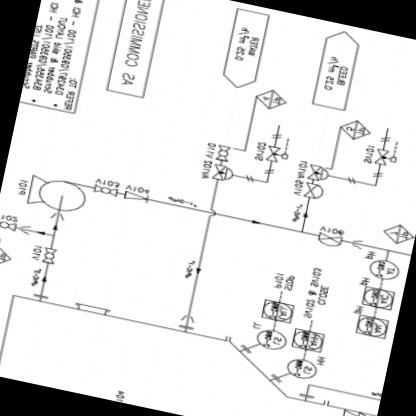LMI: (366, 257, 403, 283), (284, 356, 317, 381), (254, 328, 288, 352)
TAG: (352, 313, 392, 342), (256, 298, 296, 324), (359, 284, 396, 312), (288, 327, 324, 353)
